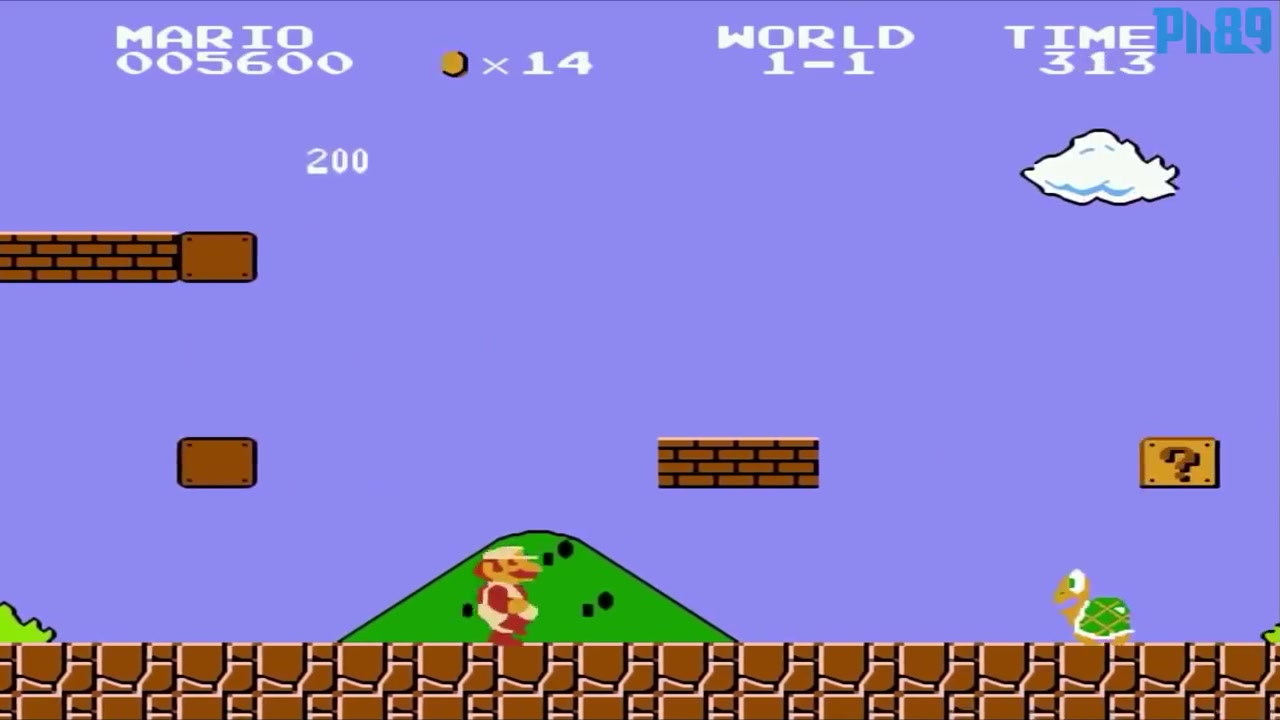mario: (469, 543, 547, 644)
